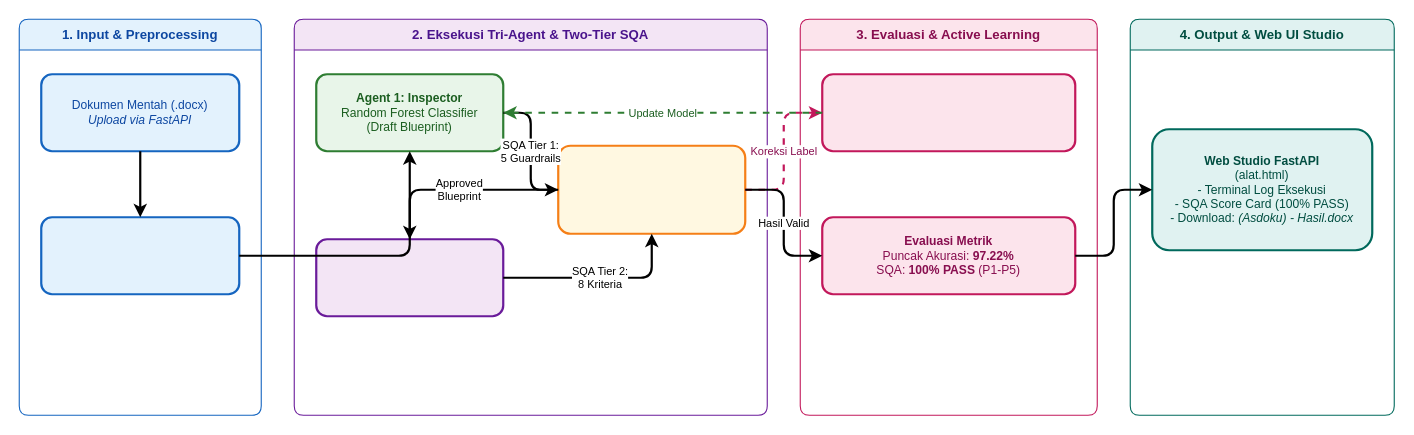
Some shapes in this 1414 by 435 pixel diagram are drawn without their labels. The shapes that lost their labels are listed below. From the top down, each one's centre as x and y in pixels, then its label:
point (948, 112): Active Learning Pool Retrain & Hot-Reload (Threshold ≥ 5 feedback)
point (651, 189): Agent 2: Quality Critic Gatekeeper & Auditor SQA (Dual-Tier Validation)
point (140, 255): Ekstraksi 420 Fitur (400 TF-IDF + 20 OpenXML)
point (409, 277): Agent 3: Actuator Low-Level OpenXML Rebuilder (Cover, Style, TOC, APA7)
